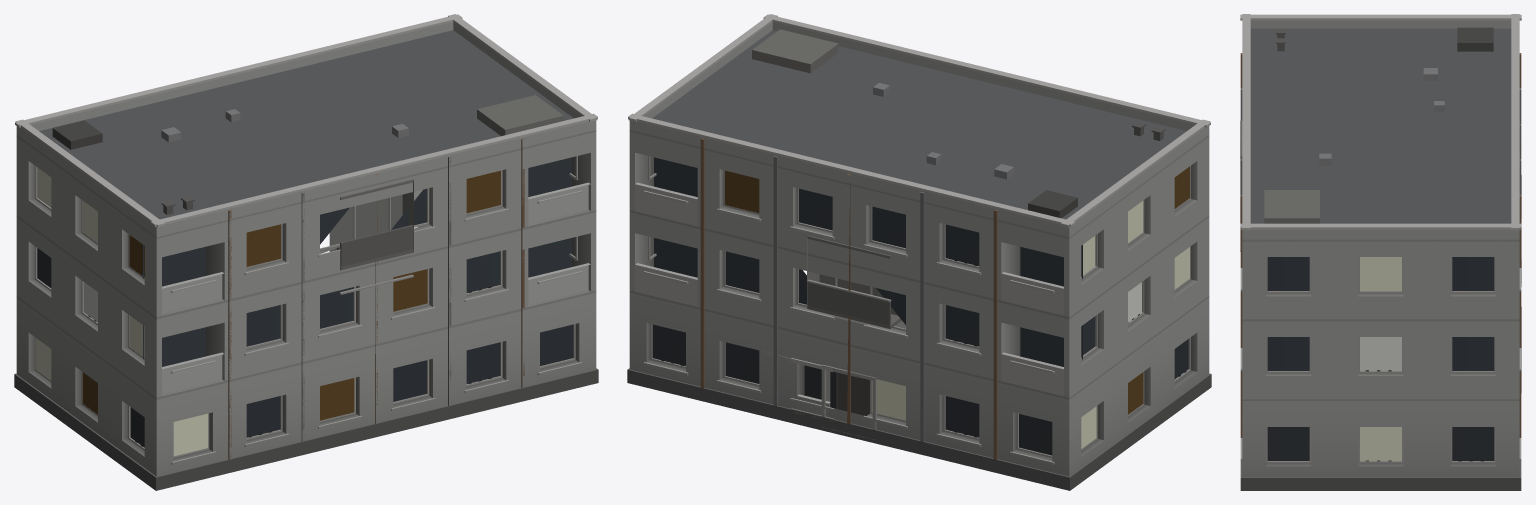
Rendered from building_wide.glb.
3 views of the same model, side by side, from view 1: azimuth 30°, elevation 25°; view 2: azimuth 150°, elevation 25°; view 3: azimuth 270°, elevation 25° (orthographic).
Parts seen in each view (by area): view 1: building_wide.001; view 2: building_wide.001; view 3: building_wide.001.
Part boxes in pixels (x1,y1,x2,y2): building_wide.001: (14,14,598,490); building_wide.001: (627,14,1211,490); building_wide.001: (1240,14,1521,490).
Bounding box in the file's own units: 18.14 × 10.39 × 10.06.
